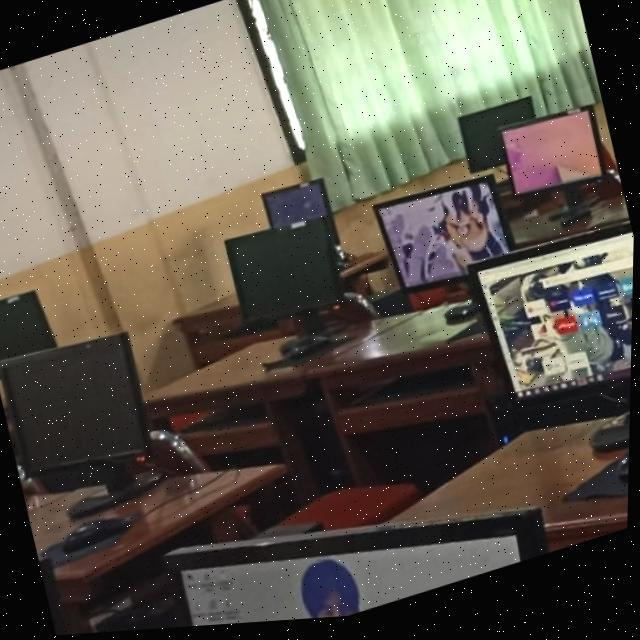offscreen: (3, 335, 148, 473), (228, 224, 344, 324), (458, 104, 535, 178), (0, 291, 57, 362), (263, 183, 332, 231)
onscreen: (184, 542, 523, 629), (472, 233, 635, 405), (374, 182, 515, 295), (503, 118, 602, 202)
